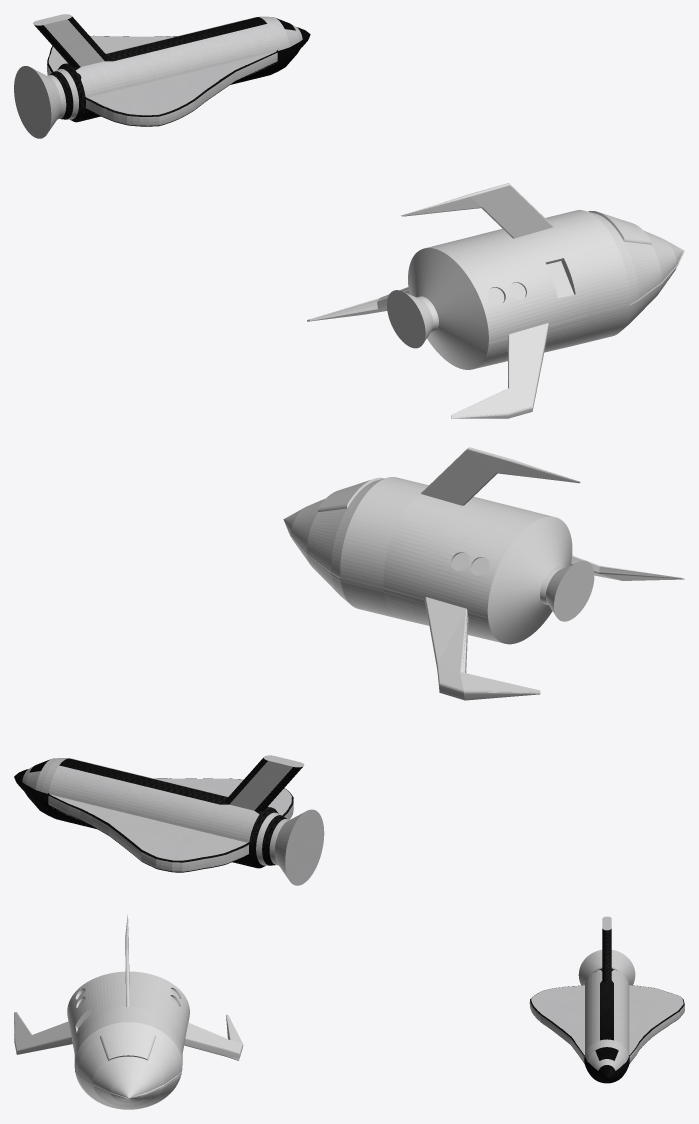
The model's file is NaveEspacial.fbx.
The picture shows the model from 3 angles, top to bottom: view 1: azimuth 30°, elevation 25°; view 2: azimuth 150°, elevation 25°; view 3: azimuth 270°, elevation 25°; orthographic projection. The views are drawn at different scales.
Parts seen in each view (by area): view 1: Cylinder, Cylinder.001; view 2: Cylinder, Cylinder.001; view 3: Cylinder, Cylinder.001.
Part boxes in pixels (box(x1,y1,x2,y2)): Cylinder: box(307, 183, 684, 418); Cylinder.001: box(14, 14, 310, 138); Cylinder: box(283, 447, 684, 700); Cylinder.001: box(14, 755, 324, 885); Cylinder: box(14, 914, 243, 1109); Cylinder.001: box(529, 916, 684, 1083).
Size of the model in its own units: 1722 by 830 by 3925.
Materials: 3 (3 with a texture image).
